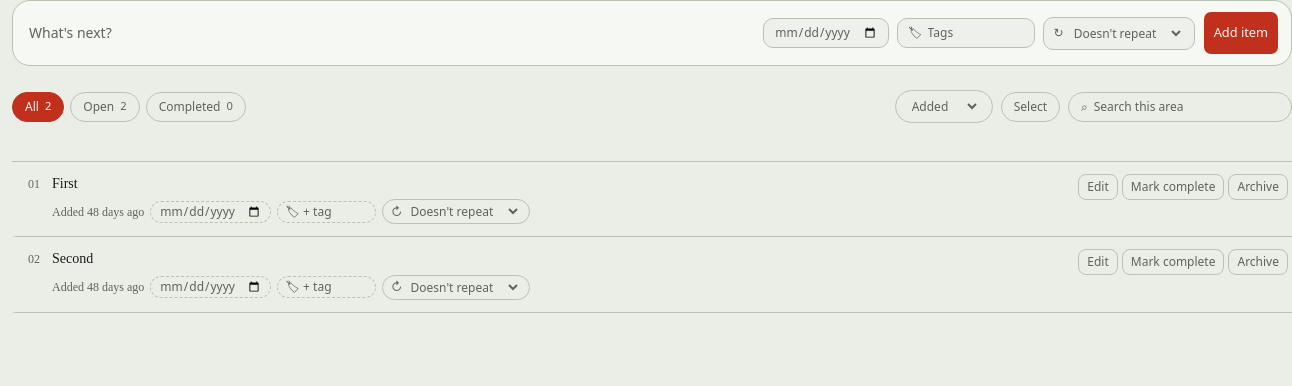
Test: TaskWorkspace › reveals a checkbox per row and a bulk bar when Select is toggled on
Click the button "Select" at (1030, 106), box x1=1001 y1=92 x2=1060 y2=122
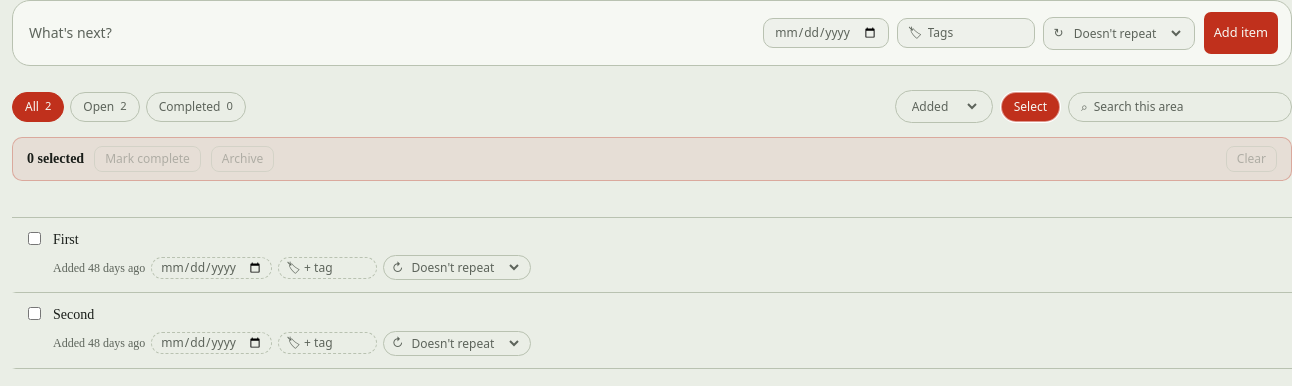
Expected: the checkbox named "Select First" is shown
Expected: the checkbox named "Select Second" is shown, x1=28 y1=307 x2=41 y2=320
Expected: the text "0 selected" is shown, x1=27 y1=149 x2=84 y2=169
Click the checkbox named "Select First" at (34, 238), box x1=28 y1=232 x2=41 y2=245
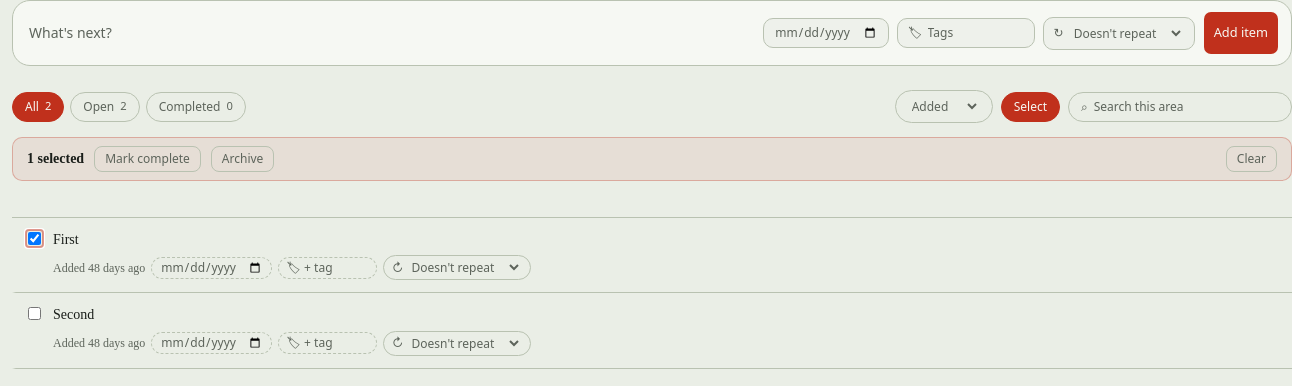
Expected: the text "1 selected" is shown, x1=27 y1=149 x2=84 y2=169
Click the button "Clear" at (1251, 159), box x1=1226 y1=146 x2=1277 y2=172
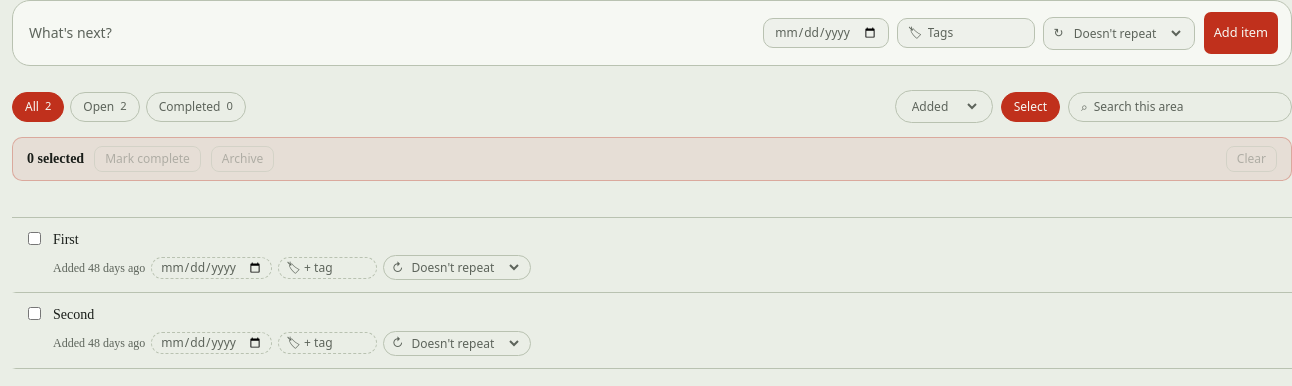
Expected: the text "0 selected" is shown, x1=27 y1=149 x2=84 y2=169
